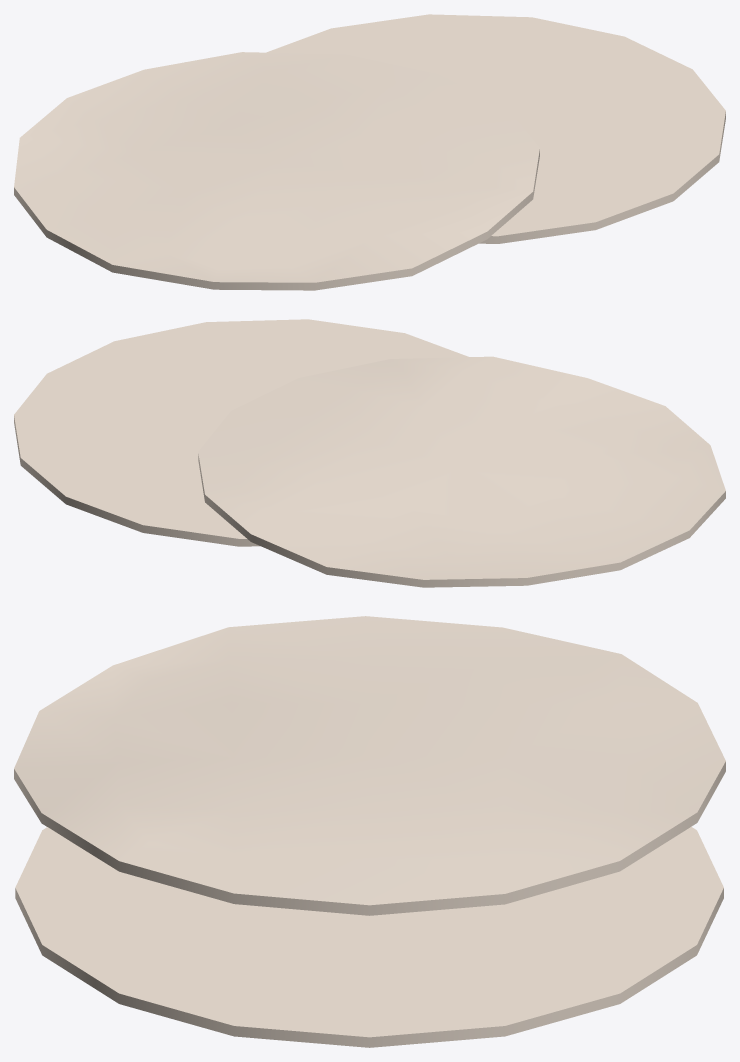
The model's file is Chicken.fbx.
3 views of the same model, one above another, from view 1: azimuth 30°, elevation 25°; view 2: azimuth 150°, elevation 25°; view 3: azimuth 270°, elevation 25° (orthographic). The views are drawn at different scales.
Parts seen in each view (by area): view 1: Chicken; view 2: Chicken; view 3: Chicken.
Part boxes in pixels (x1,y1,x2,y2): Chicken: (14,14,725,290); Chicken: (14,319,725,587); Chicken: (14,616,725,1047).
Bounding box in the file's own units: 18.82 × 0.7213 × 13.39.
